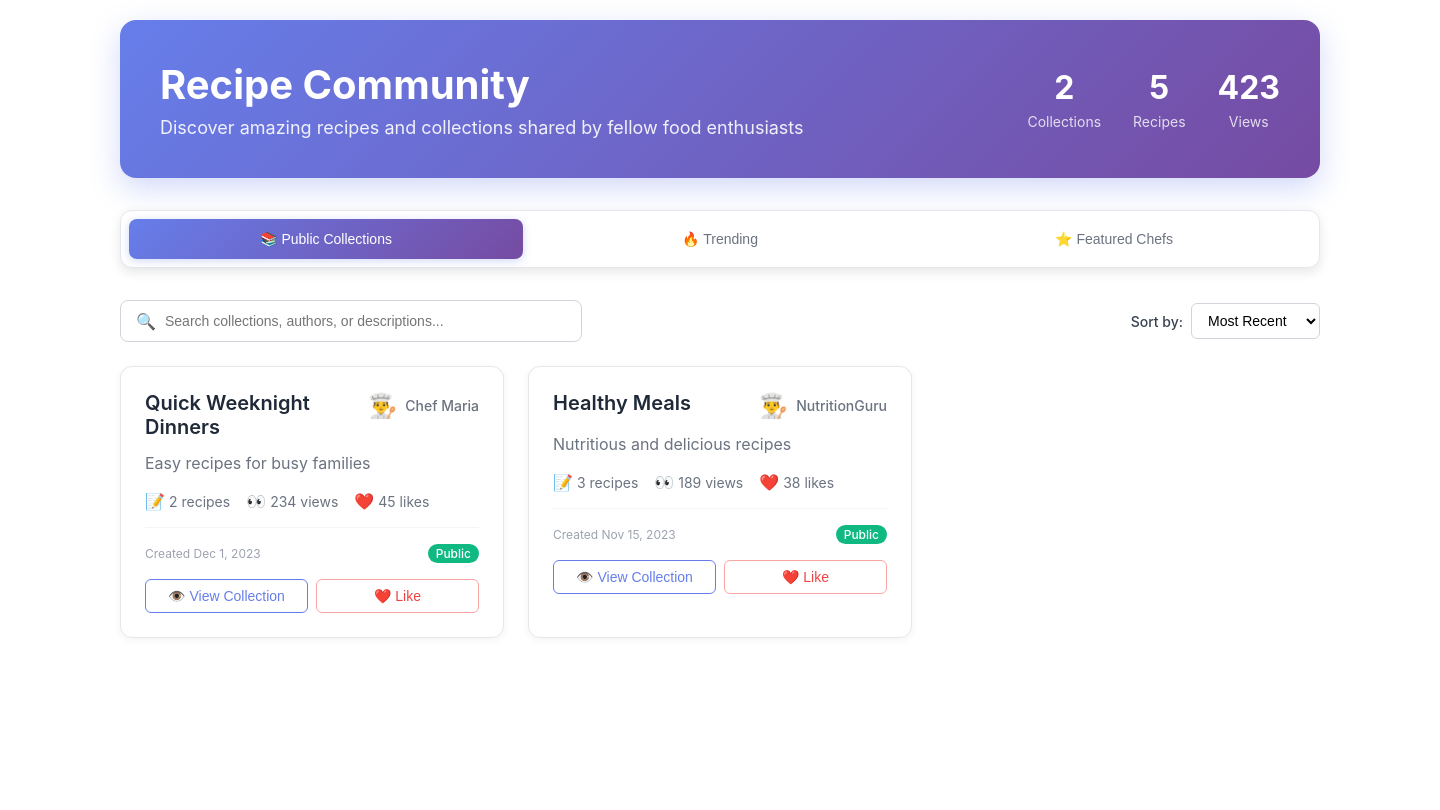
Community Component › Collections Tab › should filter collections based on search term
Type "Quick" into the field with placeholder "Search collections, authors, or descriptions..." at {"x": 351, "y": 321}, box [120,300,582,342]
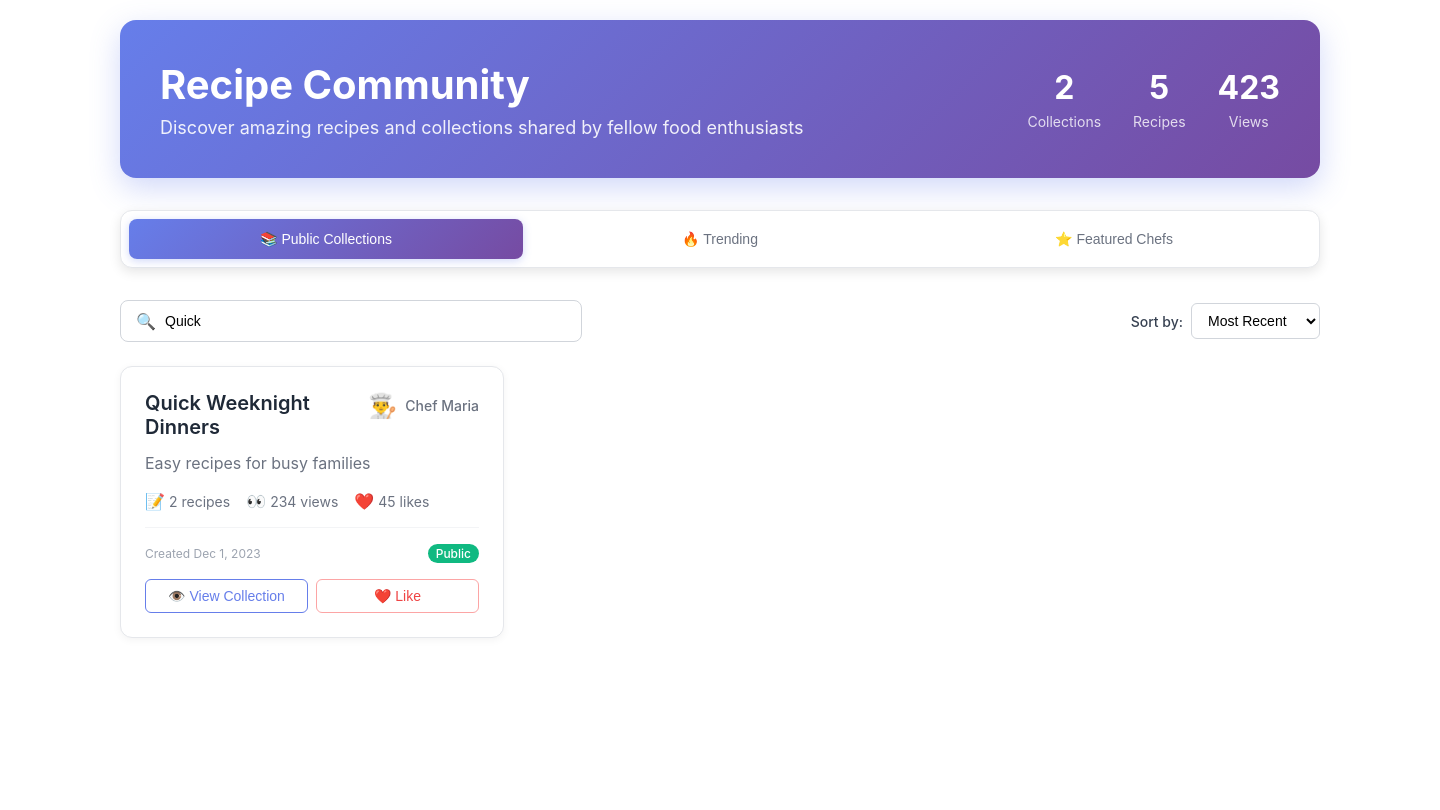
expect the heading "Quick Weeknight Dinners" is shown: met, box [145,391,310,439]
expect the heading "Healthy Meals" is gone: met
